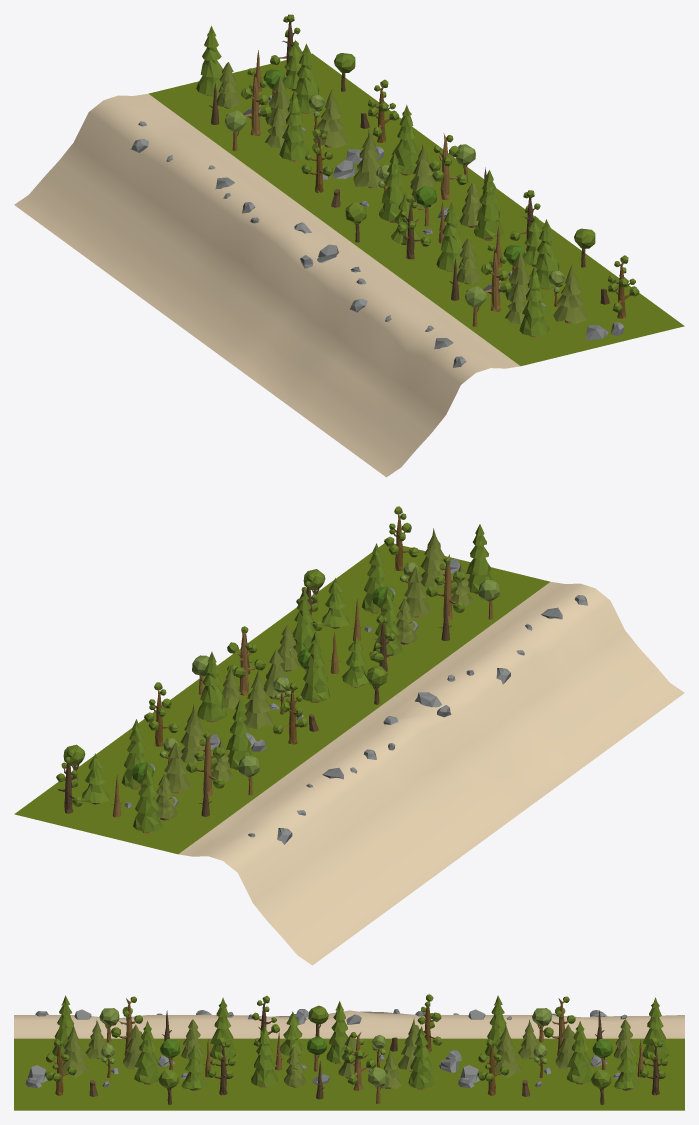
File: canoeTerrainPresent.gltf
3 views of the same model, one above another, from view 1: azimuth 30°, elevation 25°; view 2: azimuth 150°, elevation 25°; view 3: azimuth 270°, elevation 25° (orthographic). The views are drawn at different scales.
Visible parts, largest first — view 1: canoeTerrainPresent.002; view 2: canoeTerrainPresent.002; view 3: canoeTerrainPresent.002.
Part boxes in pixels (x1=…): canoeTerrainPresent.002: x1=14, y1=14, x2=684, y2=477; canoeTerrainPresent.002: x1=14, y1=506, x2=684, y2=965; canoeTerrainPresent.002: x1=14, y1=994, x2=684, y2=1110.
Size of the model in its own units: 78.74 by 37.1 by 170.
